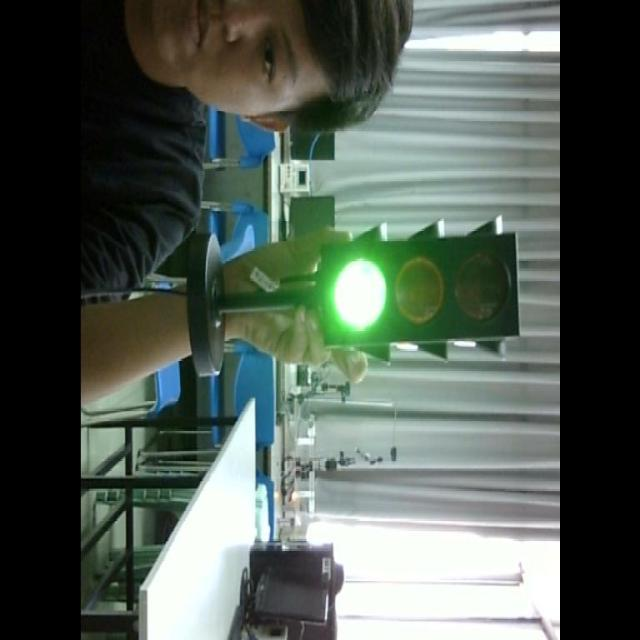green light: (322, 245, 388, 344)
